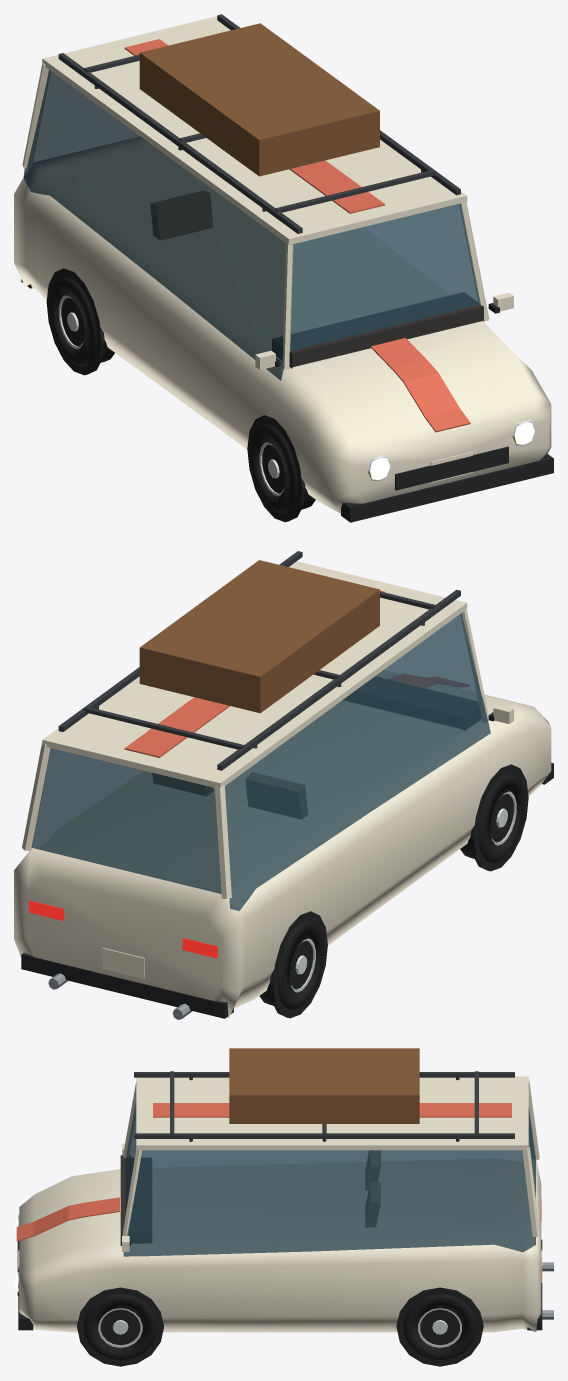
The model's file is lark-van.glb.
The picture shows the model from 3 angles, top to bottom: view 1: azimuth 30°, elevation 25°; view 2: azimuth 150°, elevation 25°; view 3: azimuth 270°, elevation 25°; orthographic projection. The views are drawn at different scales.
Parts seen in each view (by area): view 1: body, wheel_FR, wheel_RR; view 2: body, wheel_FR, wheel_RR, plate_R; view 3: body, wheel_FL, wheel_RL.
Boxes of the visible parts, <box> form: body: <box>14,14,553,522</box>; wheel_FR: <box>250,423,315,513</box>; wheel_RR: <box>50,277,114,366</box>; body: <box>14,551,553,1018</box>; wheel_FR: <box>460,773,525,862</box>; wheel_RR: <box>259,920,324,1009</box>; plate_R: <box>102,948,144,978</box>; body: <box>16,1048,542,1366</box>; wheel_FL: <box>84,1294,156,1360</box>; wheel_RL: <box>404,1294,476,1360</box>.
Bounding box in the file's own units: 2.19 × 2.6 × 5.07.
